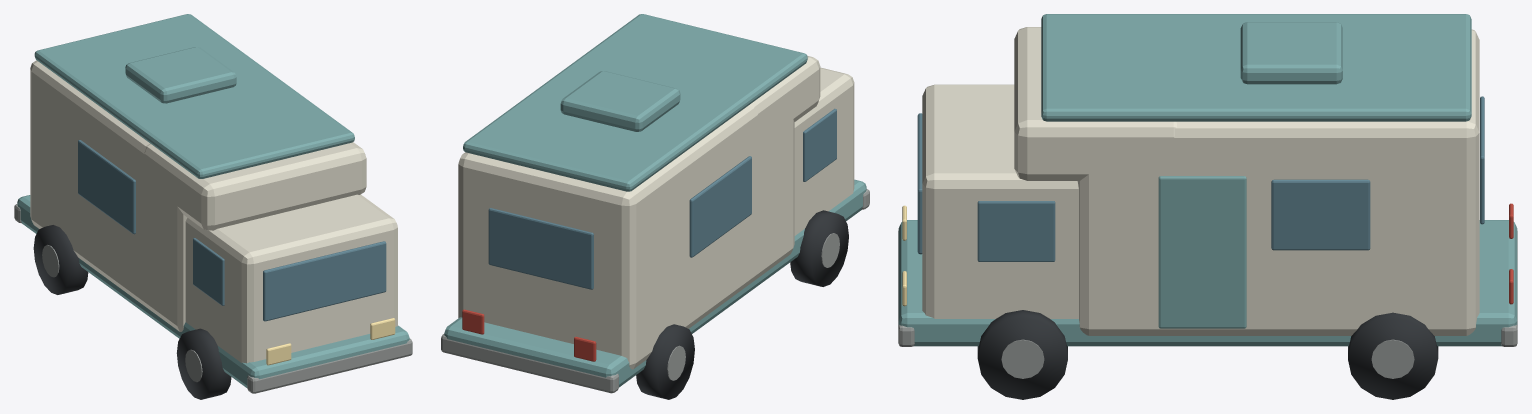
The model's file is camper_van_placeholder.glb.
The picture shows the model from 3 angles, left to right: view 1: azimuth 30°, elevation 25°; view 2: azimuth 150°, elevation 25°; view 3: azimuth 270°, elevation 25°; orthographic projection. The views are drawn at different scales.
Visible parts, largest first — view 1: RV_Roof, RV_LivingBox, RV_Cab, RV_OverCab, RV_Windshield, RV_Chassis, RV_RoofUnit, RV_LeftLivingWindow, RV_Wheel_L_Front, RV_FrontBumper, RV_Wheel_L_Rear, RV_LeftCabWindow (+4 smaller); view 2: RV_LivingBox, RV_Roof, RV_RearWindow, RV_Chassis, RV_Cab, RV_RoofUnit, RV_LeftLivingWindow, RV_Wheel_L_Front, RV_RearBumper, RV_Wheel_L_Rear, RV_OverCab, RV_LeftCabWindow (+4 smaller); view 3: RV_LivingBox, RV_Roof, RV_Cab, RV_SideDoor, RV_Chassis, RV_OverCab, RV_RightLivingWindow, RV_RoofUnit, RV_Wheel_R_Front, RV_Wheel_R_Rear, RV_RightCabWindow, RV_Wheel_R_Front_Hub (+3 smaller).
Boxes of the visible parts, x1=… form: RV_Roof: x1=34, y1=14, x2=354, y2=178; RV_LivingBox: x1=30, y1=60, x2=187, y2=331; RV_Cab: x1=185, y1=194, x2=397, y2=363; RV_OverCab: x1=144, y1=142, x2=366, y2=230; RV_Windshield: x1=263, y1=241, x2=386, y2=321; RV_Chassis: x1=17, y1=195, x2=409, y2=387; RV_RoofUnit: x1=125, y1=47, x2=236, y2=103; RV_LeftLivingWindow: x1=78, y1=140, x2=135, y2=234; RV_Wheel_L_Front: x1=176, y1=328, x2=231, y2=399; RV_FrontBumper: x1=247, y1=338, x2=412, y2=393; RV_Wheel_L_Rear: x1=33, y1=225, x2=88, y2=294; RV_LeftCabWindow: x1=193, y1=238, x2=224, y2=305; RV_LivingBox: x1=458, y1=89, x2=794, y2=369; RV_Roof: x1=463, y1=14, x2=807, y2=191; RV_RearWindow: x1=488, y1=208, x2=593, y2=289; RV_Chassis: x1=444, y1=179, x2=866, y2=387; RV_Cab: x1=794, y1=67, x2=854, y2=235; RV_RoofUnit: x1=560, y1=71, x2=680, y2=131; RV_LeftLivingWindow: x1=689, y1=156, x2=751, y2=257; RV_Wheel_L_Front: x1=790, y1=210, x2=848, y2=286; RV_RearBumper: x1=441, y1=334, x2=618, y2=393; RV_Wheel_L_Rear: x1=636, y1=324, x2=694, y2=399; RV_OverCab: x1=750, y1=56, x2=820, y2=121; RV_LeftCabWindow: x1=803, y1=108, x2=836, y2=181; RV_LivingBox: x1=1077, y1=29, x2=1479, y2=335; RV_Roof: x1=1041, y1=14, x2=1471, y2=121; RV_Cab: x1=922, y1=84, x2=1078, y2=318; RV_SideDoor: x1=1158, y1=176, x2=1246, y2=328; RV_Chassis: x1=898, y1=220, x2=1517, y2=346; RV_OverCab: x1=1014, y1=27, x2=1176, y2=180; RV_RightLivingWindow: x1=1271, y1=179, x2=1370, y2=250; RV_RoofUnit: x1=1240, y1=22, x2=1342, y2=84; RV_Wheel_R_Front: x1=977, y1=310, x2=1067, y2=399; RV_Wheel_R_Rear: x1=1348, y1=312, x2=1438, y2=399; RV_RightCabWindow: x1=977, y1=201, x2=1055, y2=261; RV_Wheel_R_Front_Hub: x1=1001, y1=339, x2=1044, y2=378.
Bounding box in the file's own units: 2.54 × 3.07 × 5.76.
